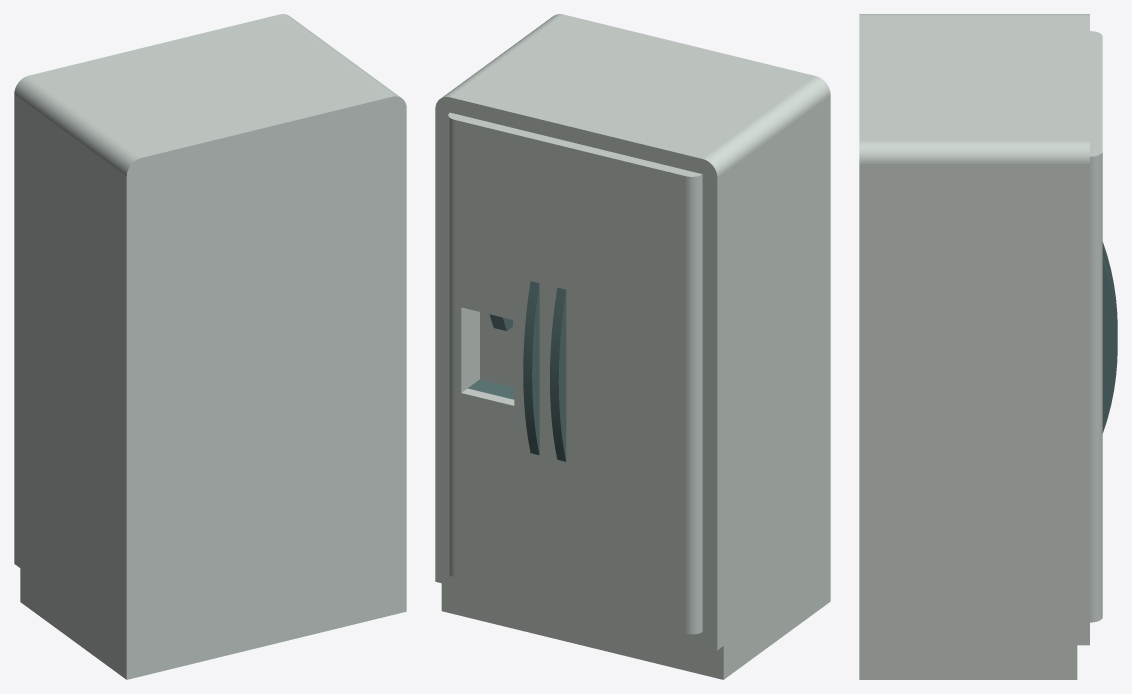
File: Kitchen Fridge Large.glb
3 views of the same model, side by side, from view 1: azimuth 30°, elevation 25°; view 2: azimuth 150°, elevation 25°; view 3: azimuth 270°, elevation 25° (orthographic). The views are drawn at different scales.
Parts seen in each view (by area): view 1: kitchenFridgeLarge; view 2: kitchenFridgeLarge, doorRight, doorLeft; view 3: kitchenFridgeLarge, doorLeft, doorRight.
Part boxes in pixels (left/top/right/bottom): kitchenFridgeLarge: left=14, top=14, right=406, bottom=679; kitchenFridgeLarge: left=435, top=14, right=830, bottom=679; doorRight: left=548, top=138, right=702, bottom=634; doorLeft: left=448, top=112, right=554, bottom=599; kitchenFridgeLarge: left=859, top=14, right=1089, bottom=679; doorLeft: left=1090, top=104, right=1117, bottom=622; doorRight: left=1090, top=31, right=1117, bottom=332.
Bounding box in the file's own units: 0.52 × 0.92 × 0.4055.
